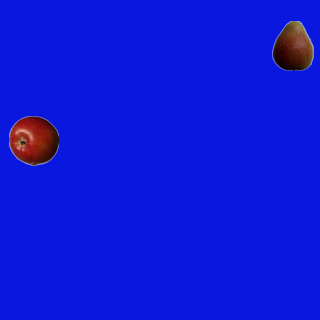Apple Braeburn: (8, 115, 58, 165)
Pear Forelle: (267, 20, 317, 70)
